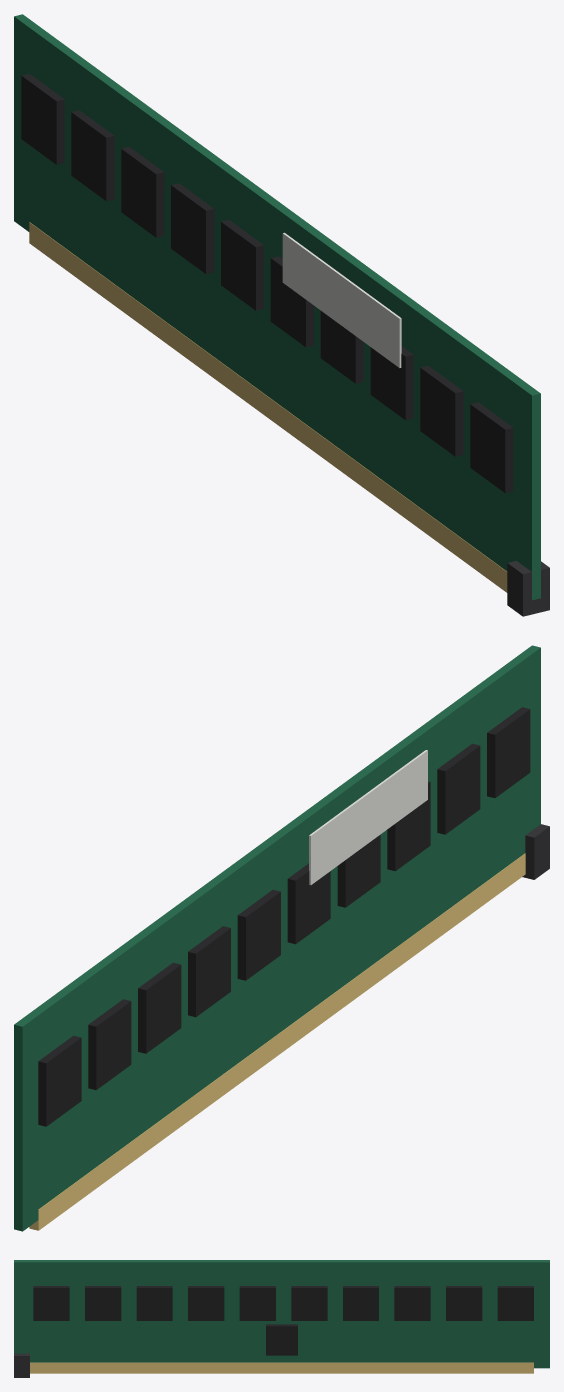
File: dimm.glb
The picture shows the model from 3 angles, top to bottom: view 1: azimuth 30°, elevation 25°; view 2: azimuth 150°, elevation 25°; view 3: azimuth 270°, elevation 25°; orthographic projection. The views are drawn at different scales.
Visible parts, largest first — view 1: Pcb, Chips, Gold, Accent, Clip; view 2: Pcb, Chips, Gold, Accent, Clip; view 3: Pcb, Chips, Gold, Rcd, Clip.
Part boxes in pixels (x1,y1,x2,y2): Pcb: [14, 14, 540, 600]; Chips: [21, 73, 513, 493]; Gold: [29, 222, 507, 592]; Accent: [282, 232, 401, 367]; Clip: [507, 561, 549, 616]; Pcb: [14, 645, 540, 1231]; Chips: [38, 707, 530, 1126]; Gold: [29, 853, 525, 1230]; Accent: [309, 750, 427, 885]; Clip: [522, 824, 549, 879]; Pcb: [14, 1260, 549, 1368]; Chips: [33, 1286, 533, 1320]; Gold: [30, 1362, 533, 1373]; Rcd: [266, 1324, 297, 1355]; Clip: [14, 1353, 29, 1377].
Size of the model in its own units: 0.0041 by 0.031 by 0.133.
